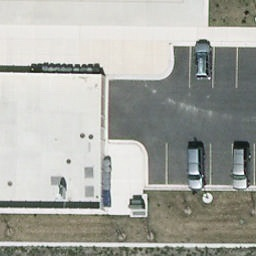car: (191, 41, 213, 83), (187, 147, 206, 191), (232, 147, 251, 189)
